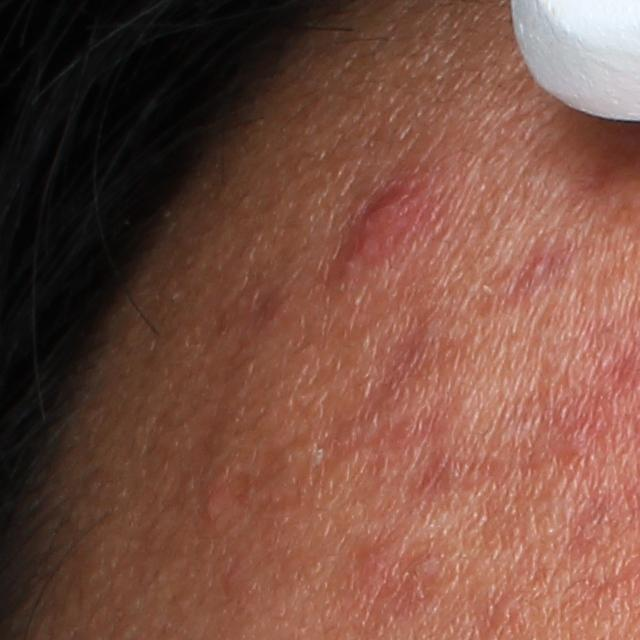papule: (322, 171, 445, 291), (204, 487, 228, 526)
